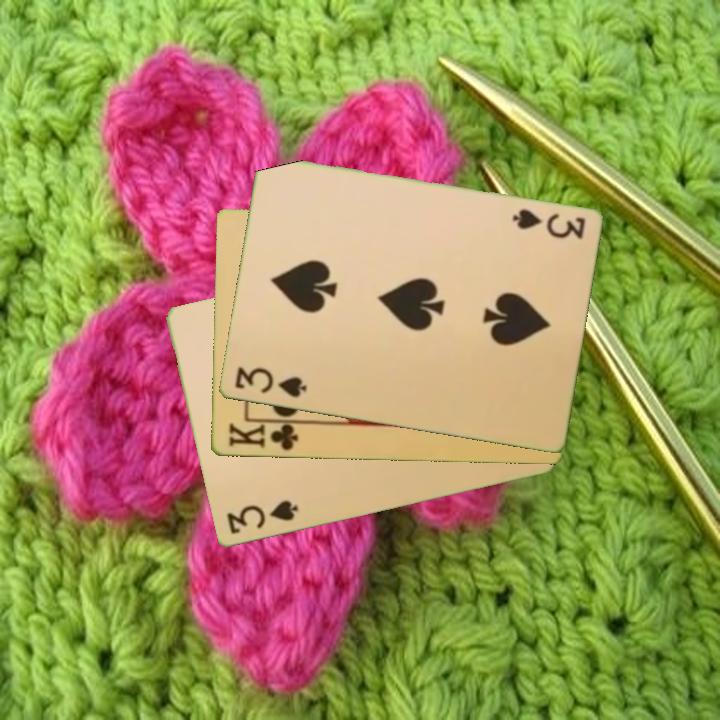3s: (222, 497, 301, 538), (231, 363, 310, 401), (508, 205, 588, 242)
Kc: (225, 418, 305, 454)
